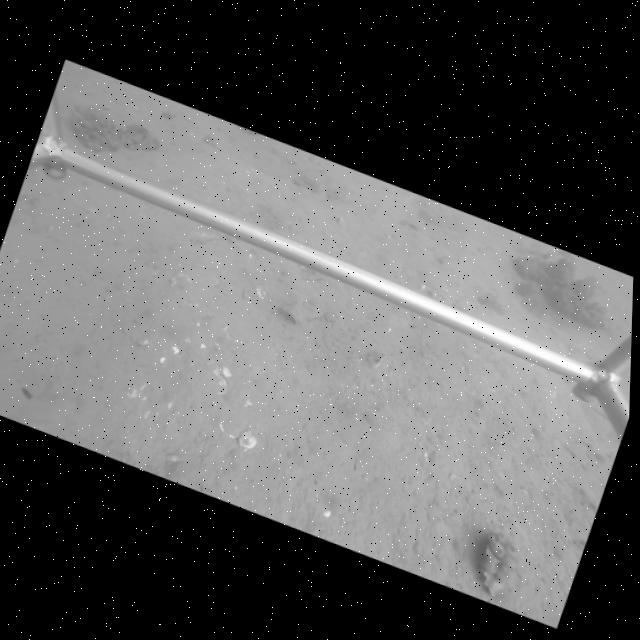Oyster-Indeterminate: (479, 526, 519, 598)
